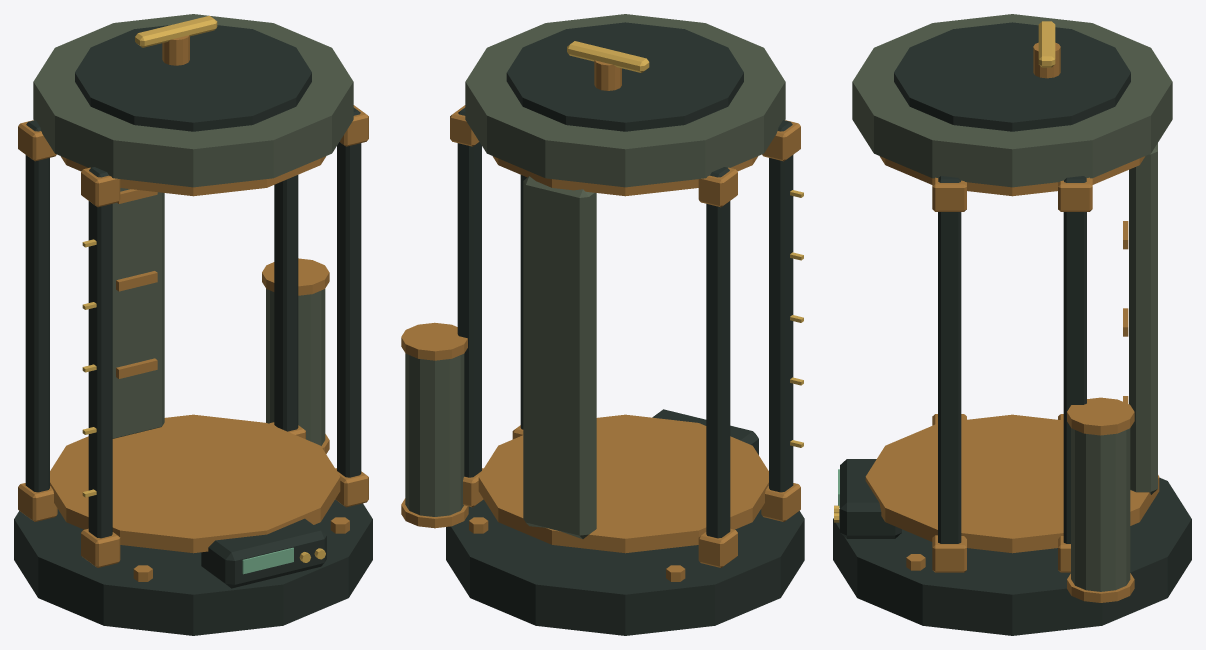
File: specimen_frame.fbx
The picture shows the model from 3 angles, left to right: view 1: azimuth 30°, elevation 25°; view 2: azimuth 150°, elevation 25°; view 3: azimuth 270°, elevation 25°; orthographic projection.
Parts seen in each view (by area): view 1: SpecimenFrame; view 2: SpecimenFrame; view 3: SpecimenFrame.
Part boxes in pixels (x1=…): SpecimenFrame: x1=14, y1=14, x2=372, y2=635; SpecimenFrame: x1=401, y1=14, x2=804, y2=635; SpecimenFrame: x1=833, y1=14, x2=1191, y2=635.
Bounding box in the file's own units: 554 × 834 × 520.
1 material, 1 textured.
